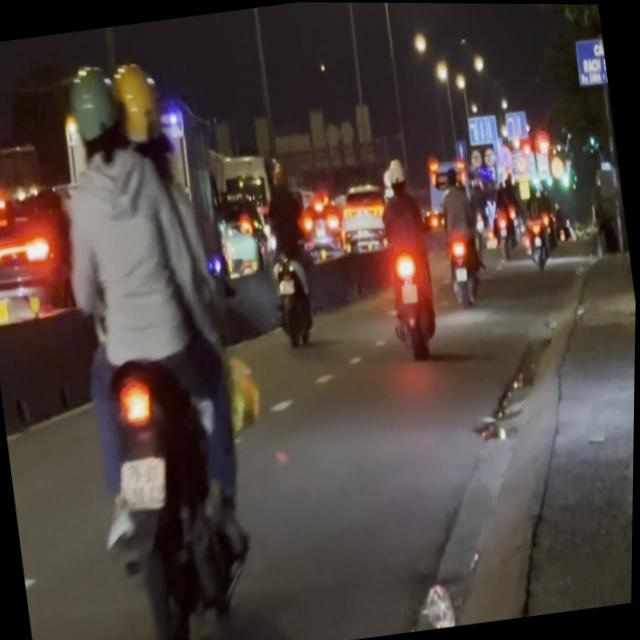helmet: (62, 62, 130, 166), (108, 57, 167, 159)
licenseplate: (30, 44, 295, 640)
nohelmet: (118, 457, 172, 514)
